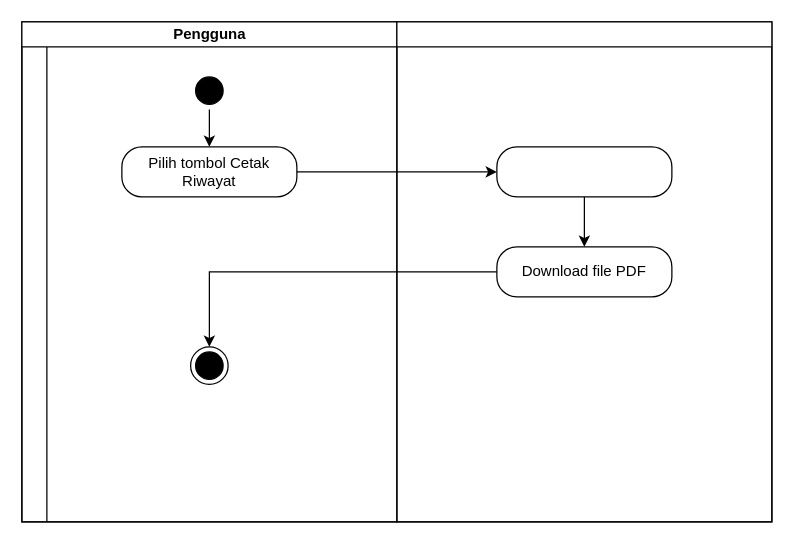
Image size: 794x544. Some labels were removed from this diagram. Here are the shapes that lost their labels. From the top down, the box of each, then its label:
(496, 146, 672, 197): Generate file PDF
(396, 21, 772, 522): Sistem
